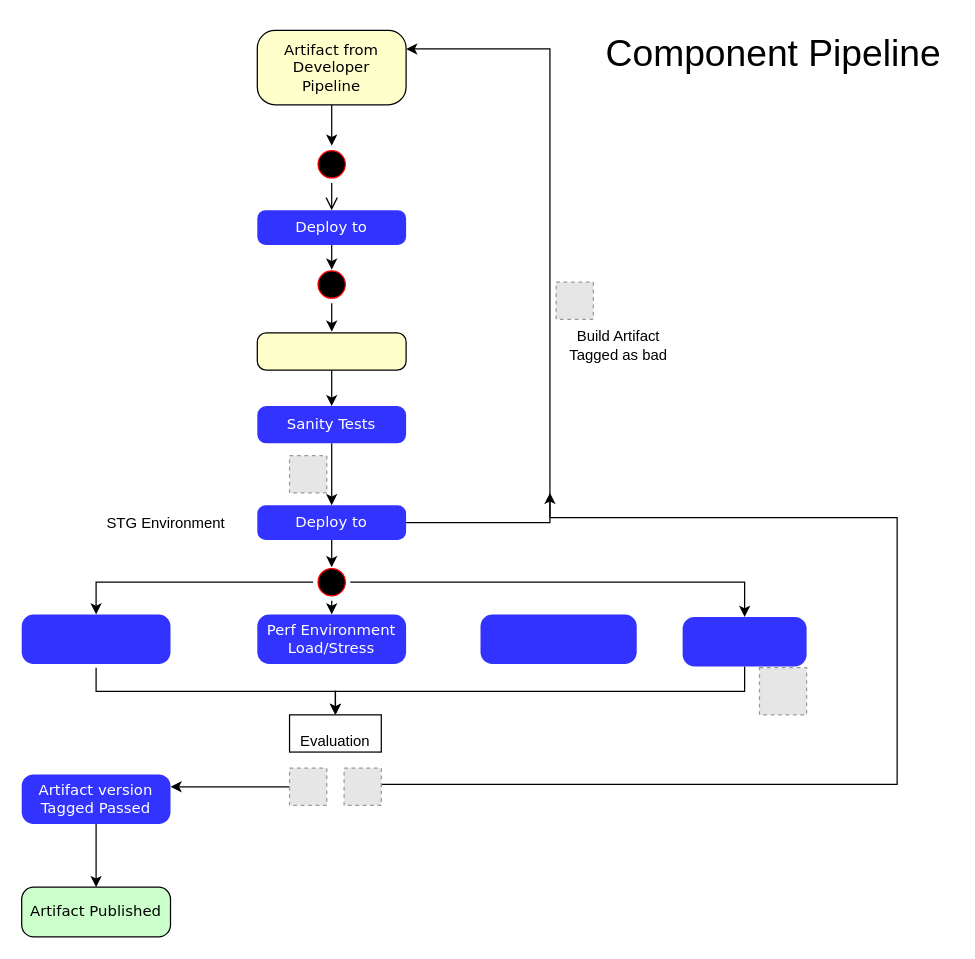
Image size: 975x959. Some labels were removed from this diagram. Grey dashed boxes stand in for pictures. Here are the shapes that lost their labels. From the top down, the centre of each, then its label:
At (x=331, y=351): "Lower Test Environment".
At (x=95, y=638): "Test Environment Integration".
At (x=558, y=638): "Dynamic Application Security Testing".
At (x=744, y=641): "Penetration Testing".
